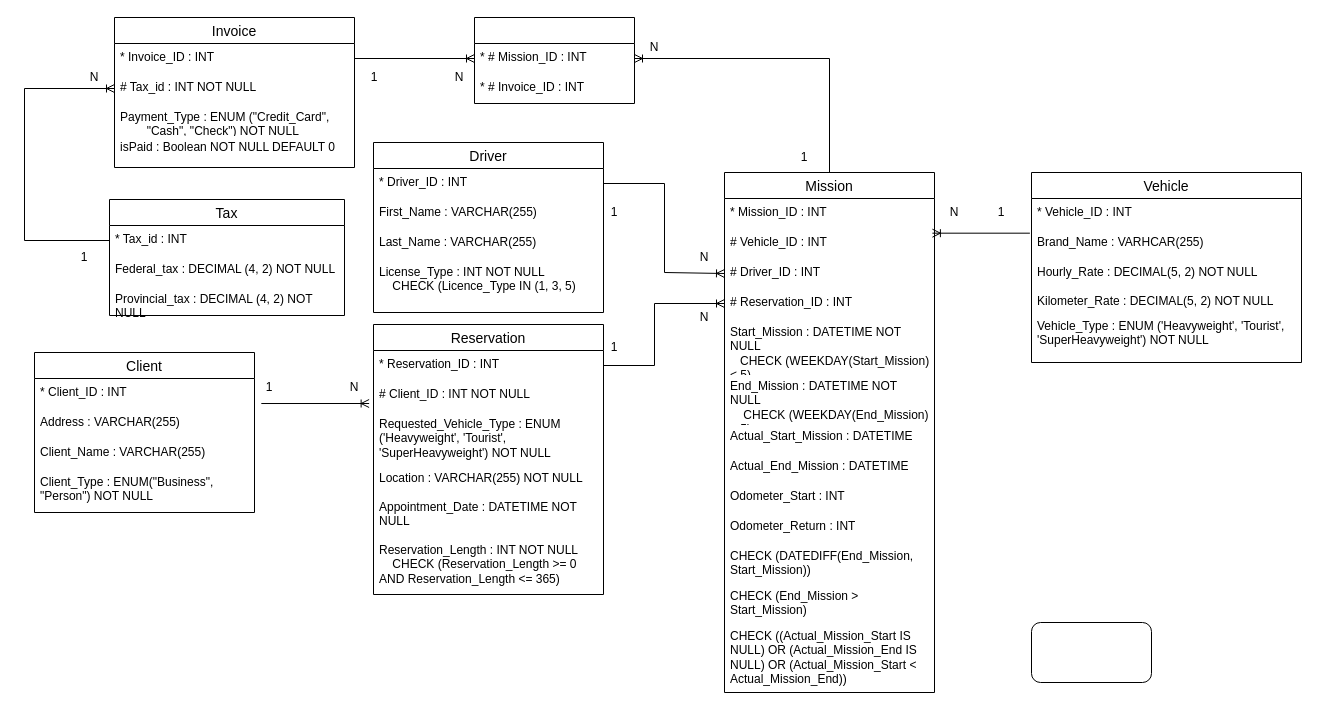
Some shapes in this 1319 by 713 pixel diagram are drawn without their labels. Each missing label, with the box of its shape:
Legend: * : Primary Key # : Foreign Key: (1030, 622, 1152, 682)
Line Order: (474, 16, 634, 104)
